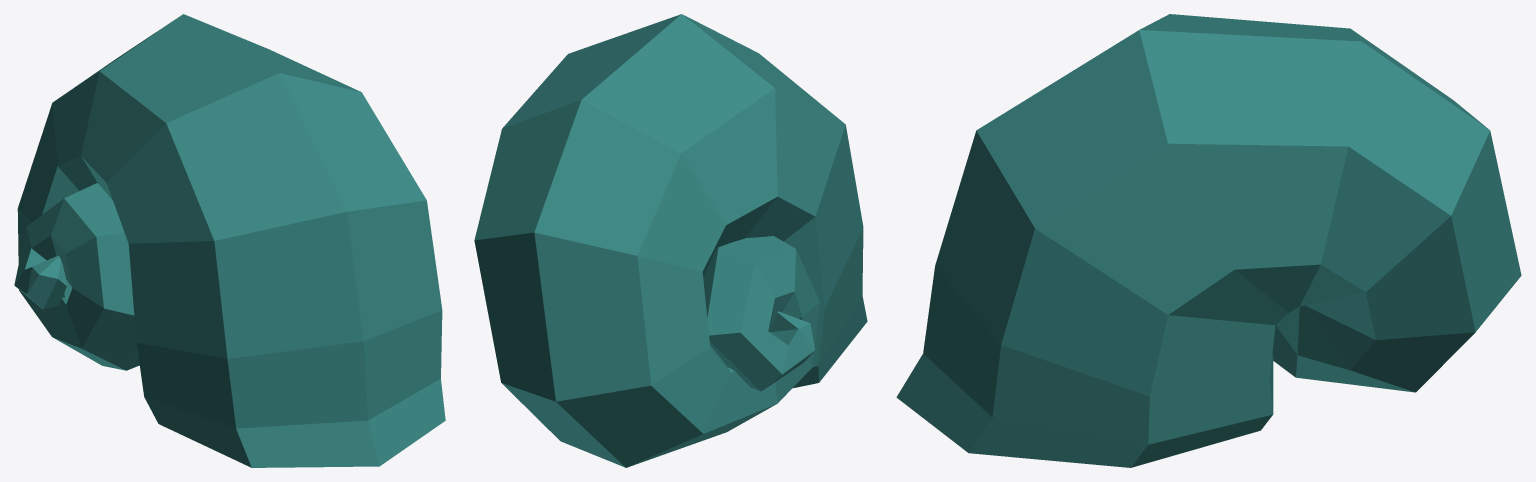
Rendered from SM_Sea_Shell_Snail_C.fbx.
3 renders of one model, left to right at view 1: azimuth 30°, elevation 25°; view 2: azimuth 150°, elevation 25°; view 3: azimuth 270°, elevation 25°, orthographic. The views are drawn at different scales.
Parts seen in each view (by area): view 1: sea-shell-snail-c; view 2: sea-shell-snail-c; view 3: sea-shell-snail-c.
Part boxes in pixels (x1=…): sea-shell-snail-c: x1=14, y1=14, x2=445, y2=467; sea-shell-snail-c: x1=474, y1=14, x2=867, y2=467; sea-shell-snail-c: x1=896, y1=14, x2=1521, y2=467.
Bounding box in the file's own units: 0.1282 × 0.1231 × 0.1868.
